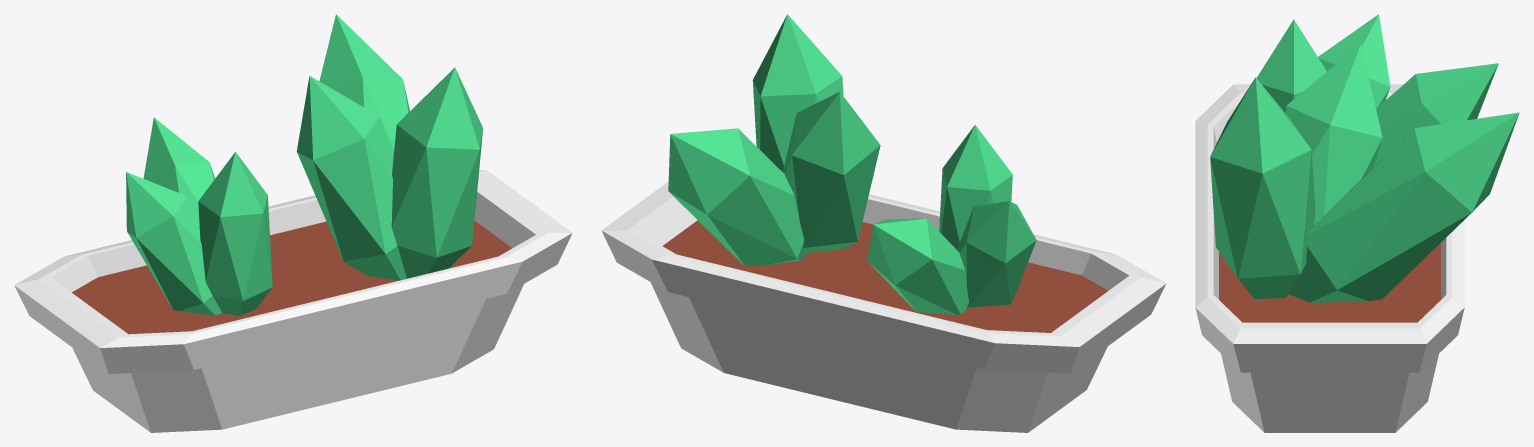
File: plant.fbx
3 renders of one model, left to right at view 1: azimuth 30°, elevation 25°; view 2: azimuth 150°, elevation 25°; view 3: azimuth 270°, elevation 25°, orthographic. The views are drawn at different scales.
Visible parts, largest first — view 1: plant; view 2: plant; view 3: plant.
Part boxes in pixels (left/top/right/bottom): plant: left=14, top=14, right=572, bottom=432; plant: left=601, top=14, right=1166, bottom=432; plant: left=1195, top=14, right=1519, bottom=432.
Size of the model in its own units: 66.16 by 39.53 by 34.98.
